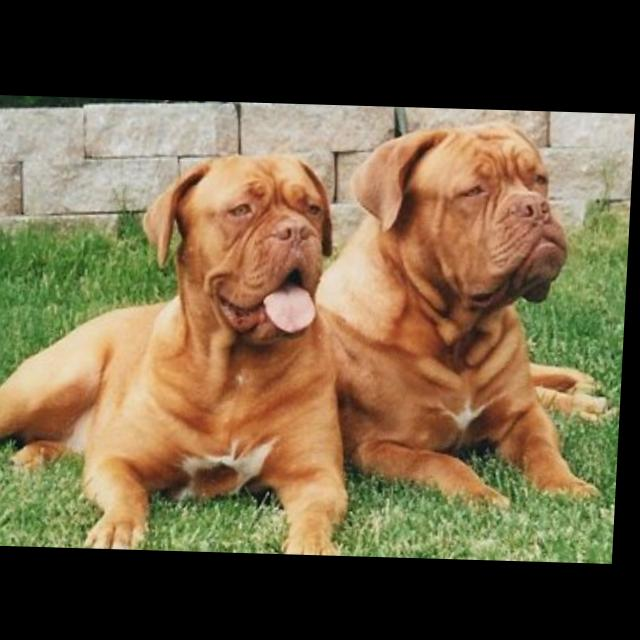dogue_de_bordeaux: (1, 144, 371, 555), (309, 115, 634, 512)
